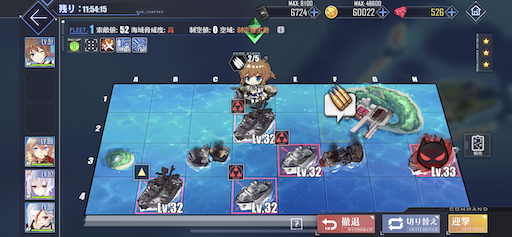boss: (410, 134, 457, 179)
lv1: (135, 164, 184, 211)
lv3: (229, 163, 276, 212), (274, 131, 323, 173), (231, 99, 276, 140)
